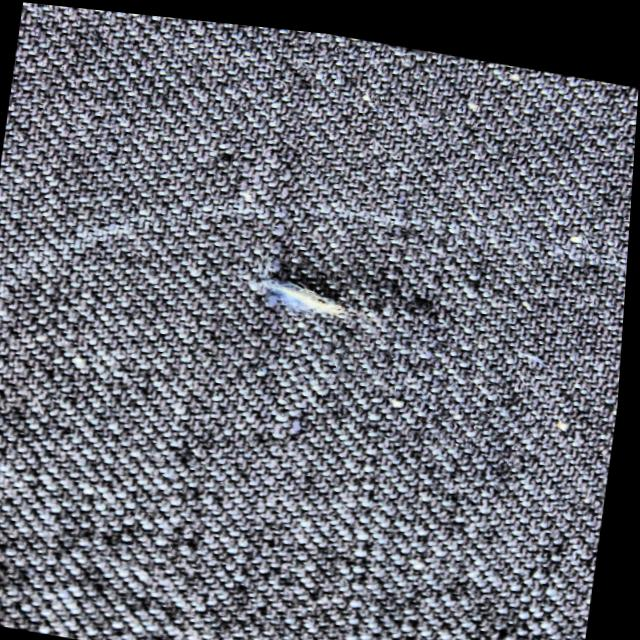Stitch: (215, 236, 378, 357)
